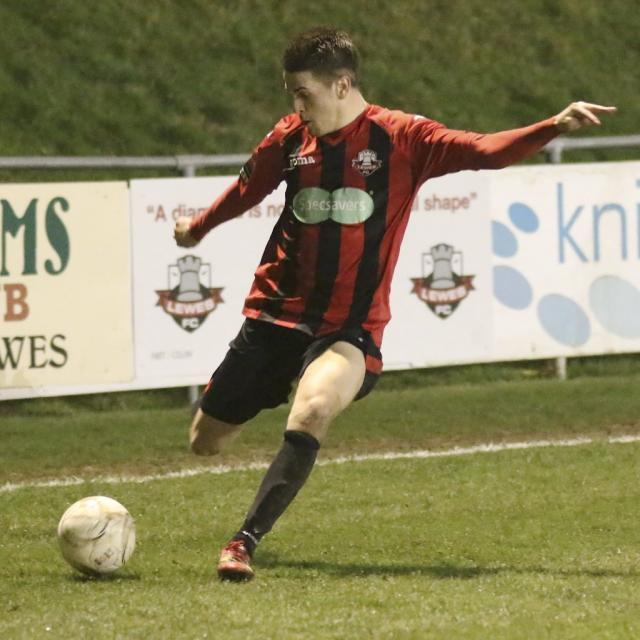ball: (58, 494, 139, 574)
